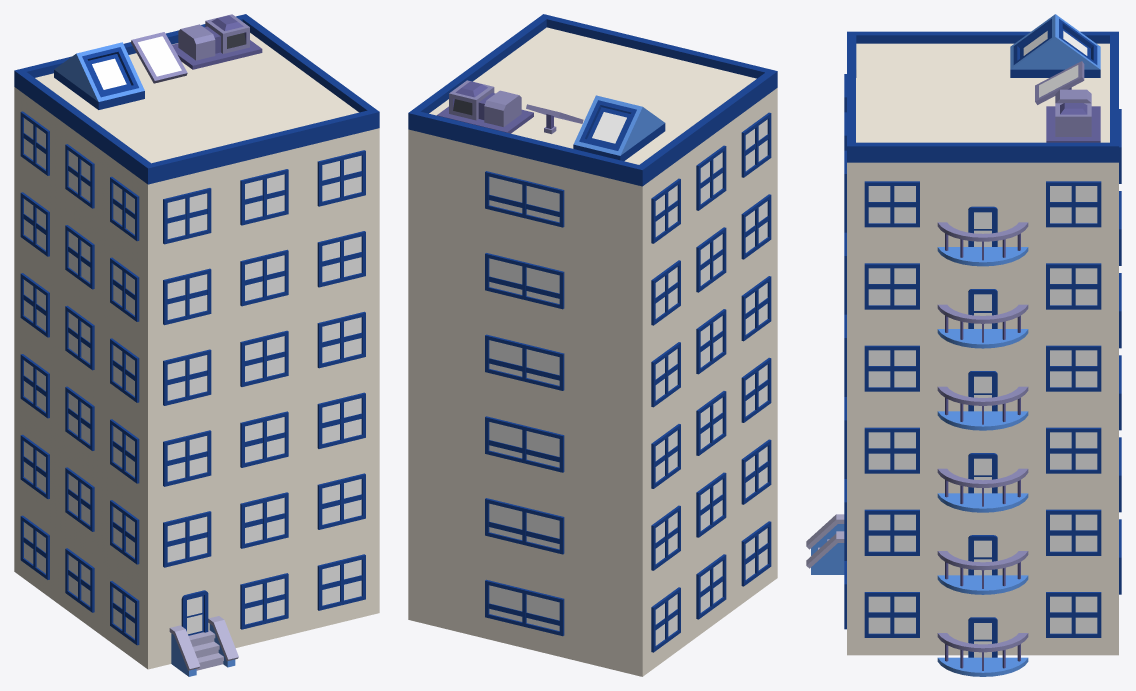
The model's file is M1_Condo02.fbx.
3 renders of one model, left to right at view 1: azimuth 30°, elevation 25°; view 2: azimuth 150°, elevation 25°; view 3: azimuth 270°, elevation 25°, orthographic.
Visible parts, largest first — view 1: mergedBlocks; view 2: mergedBlocks; view 3: mergedBlocks.
Part boxes in pixels (x1=…): mergedBlocks: x1=14, y1=14, x2=379, y2=676; mergedBlocks: x1=408, y1=14, x2=777, y2=676; mergedBlocks: x1=806, y1=14, x2=1121, y2=676.
Size of the model in its own units: 35.92 by 66 by 34.79.
